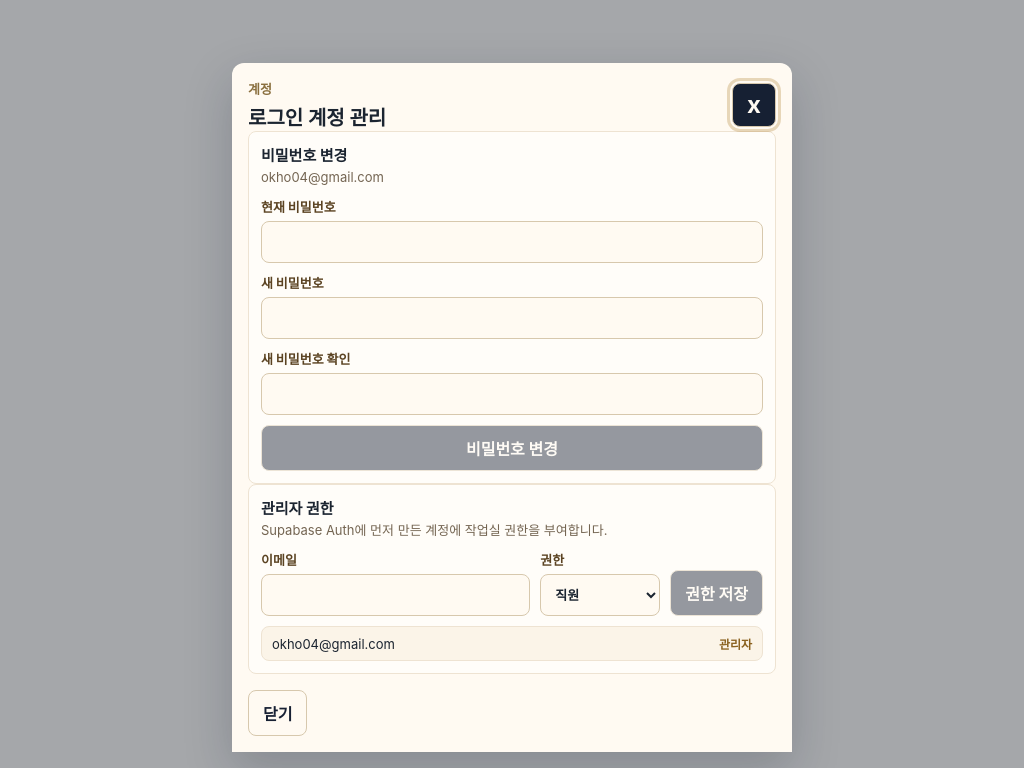
Test: AccountModal › blocks mismatched new password confirmation
This screenshot has width=1024, height=768.
Type "old-secret" into the password field labelled "현재 비밀번호". click: (512, 242)
box: x1=261 y1=221 x2=763 y2=263
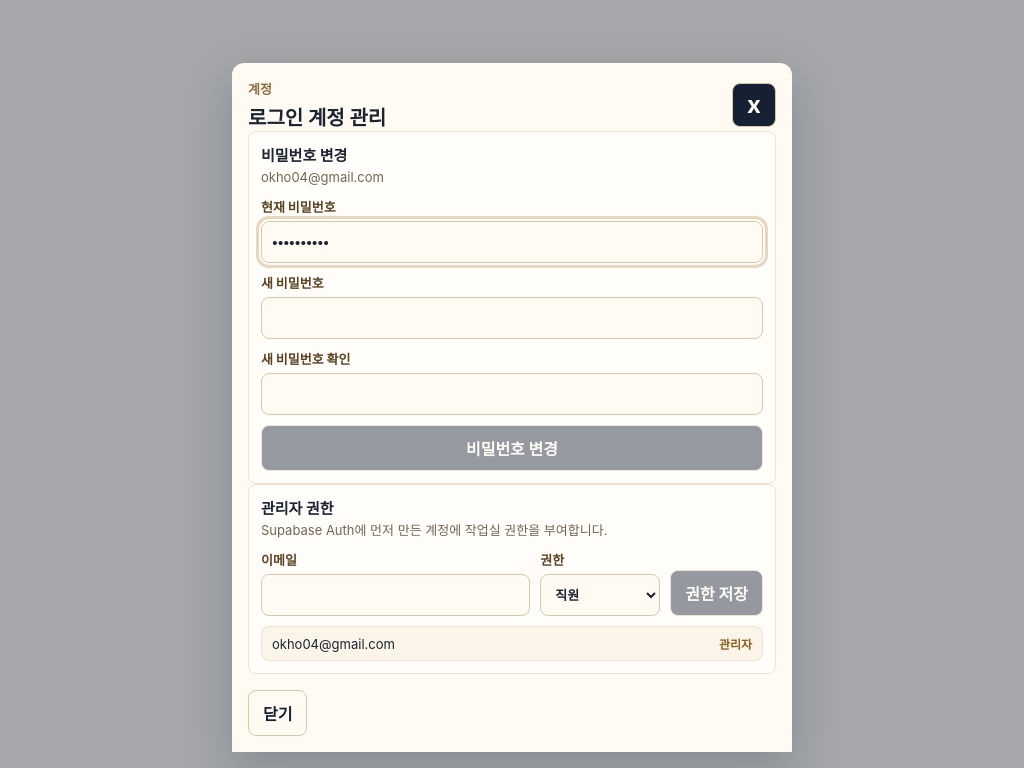
Type "new-secret" into the password field labelled "새 비밀번호". click: (512, 318)
box: x1=261 y1=297 x2=763 y2=339
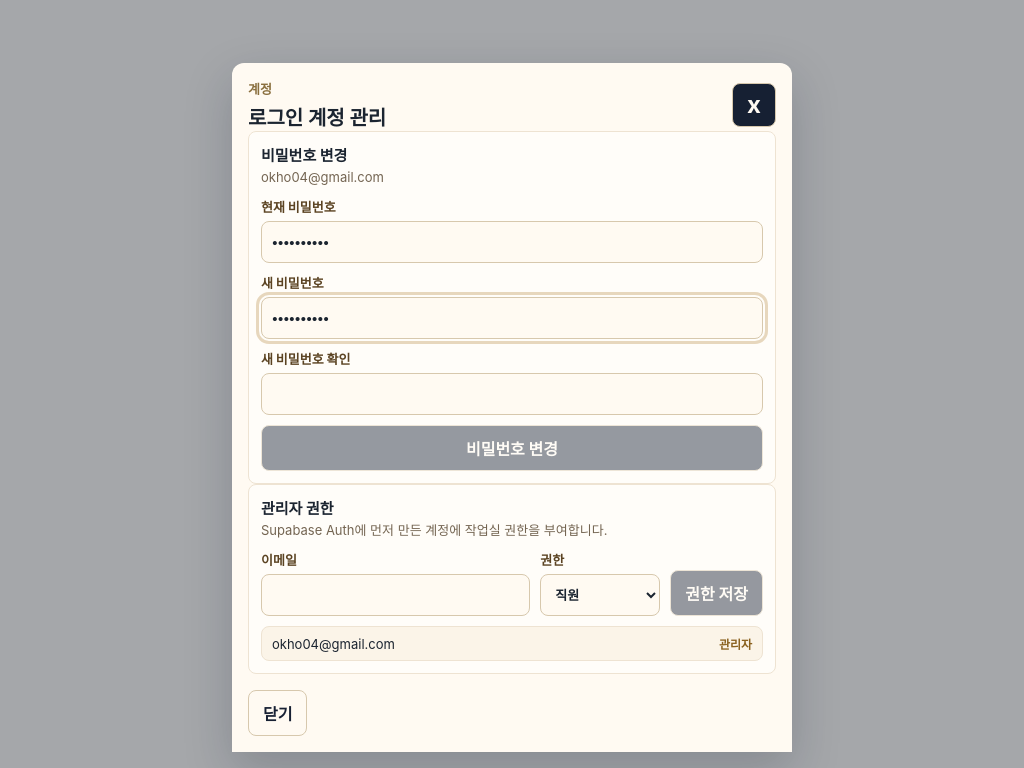
Type "different-secret" into the password field labelled "새 비밀번호 확인". click: (512, 394)
box: x1=261 y1=373 x2=763 y2=415
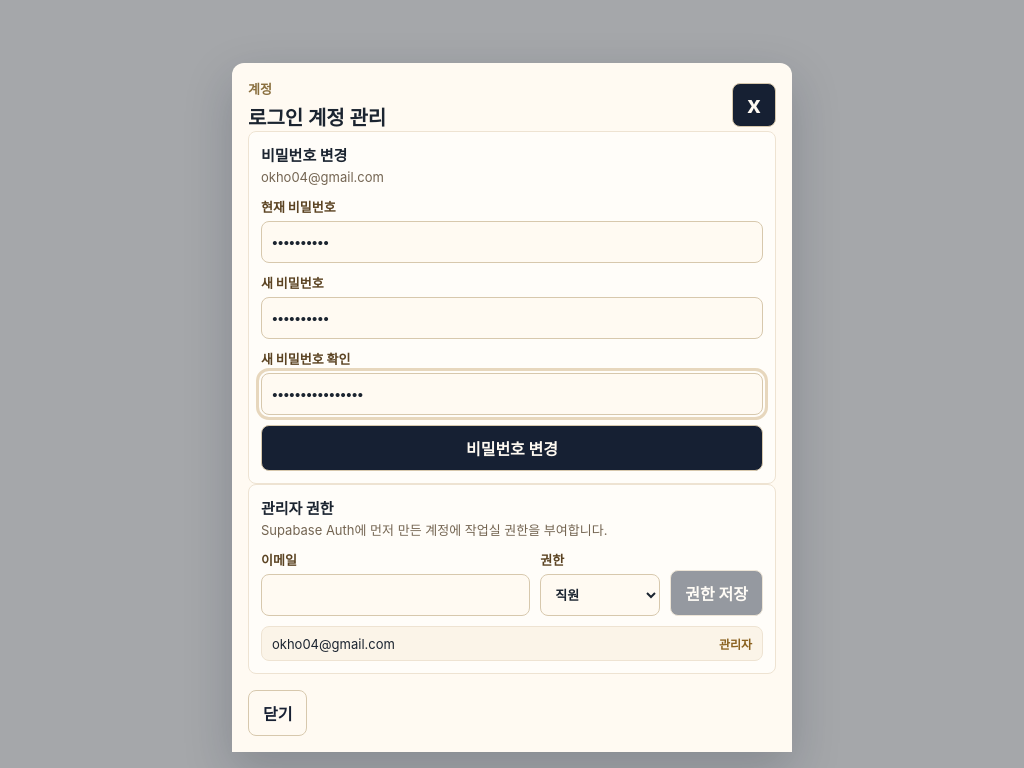
Click the button "비밀번호 변경". click: click(512, 448)
box: x1=261 y1=425 x2=763 y2=471
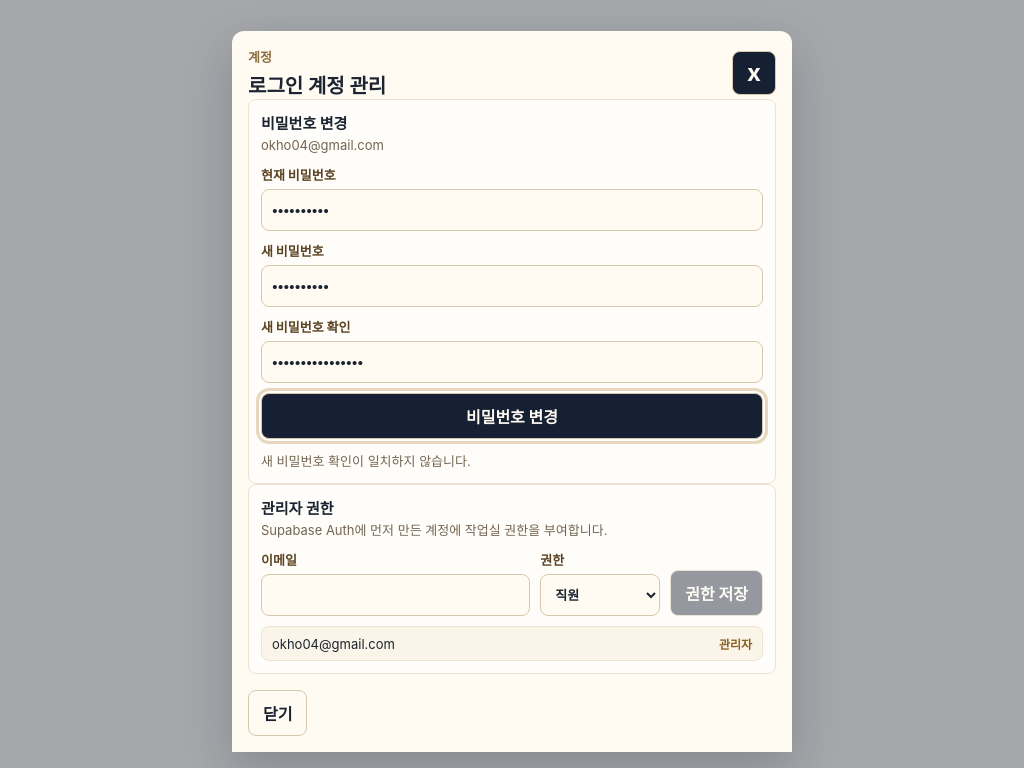
Now the message reads "새 비밀번호 확인이 일치하지 않습니다.", box x1=261 y1=453 x2=471 y2=469
